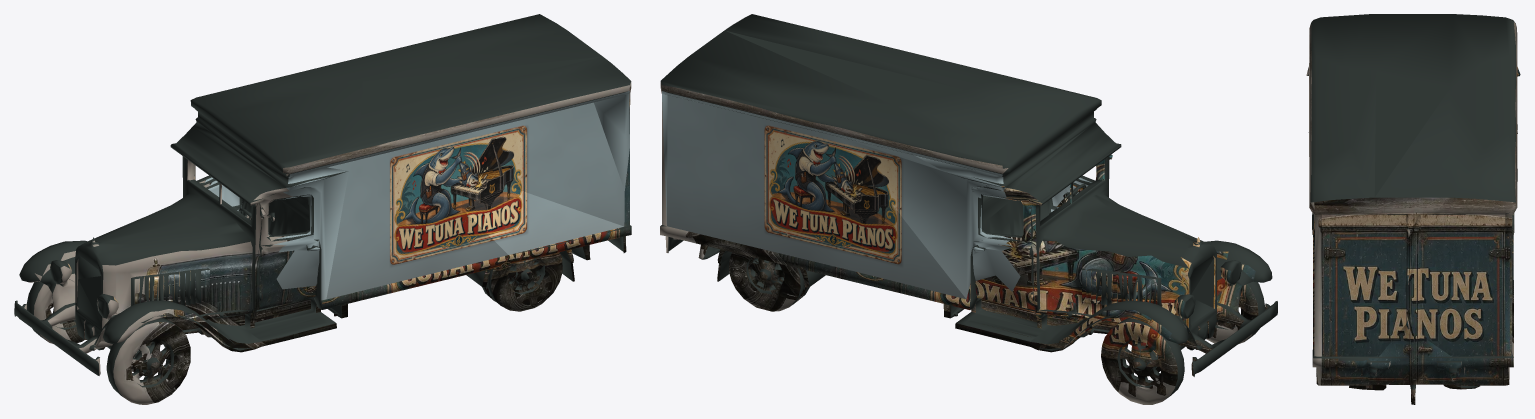
File: piano_truck.glb
3 views of the same model, side by side, from view 1: azimuth 30°, elevation 25°; view 2: azimuth 150°, elevation 25°; view 3: azimuth 270°, elevation 25° (orthographic). The views are drawn at different scales.
Visible parts, largest first — view 1: piano_truck; view 2: piano_truck; view 3: piano_truck.
Boxes of the visible parts, box(x1,y1,x2,y2) form: piano_truck: box(14, 14, 631, 404); piano_truck: box(660, 14, 1277, 404); piano_truck: box(1306, 14, 1520, 404).
Bounding box in the file's own units: 5.8 × 2.15 × 1.82.
Materials: 4 (4 with a texture image).
